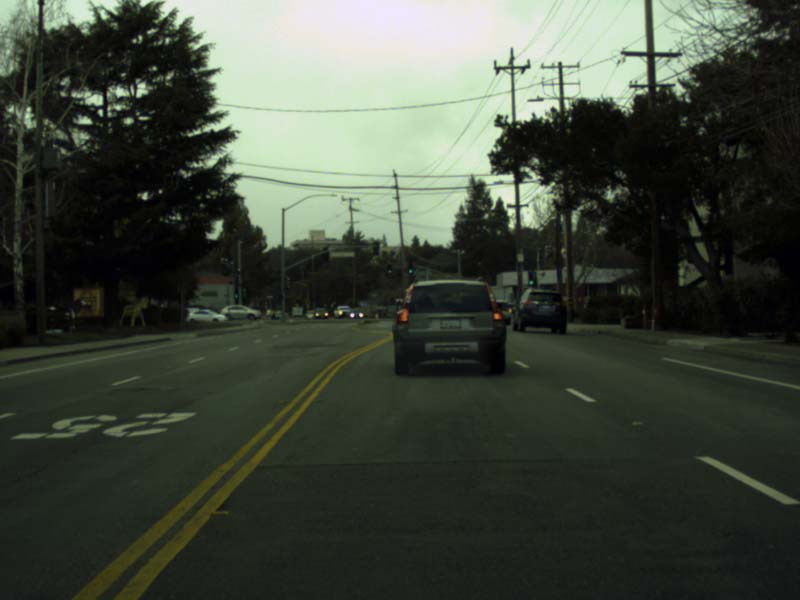Green: (527, 272, 533, 284), (387, 264, 391, 273), (234, 288, 237, 298), (408, 264, 411, 273), (459, 290, 462, 296)
